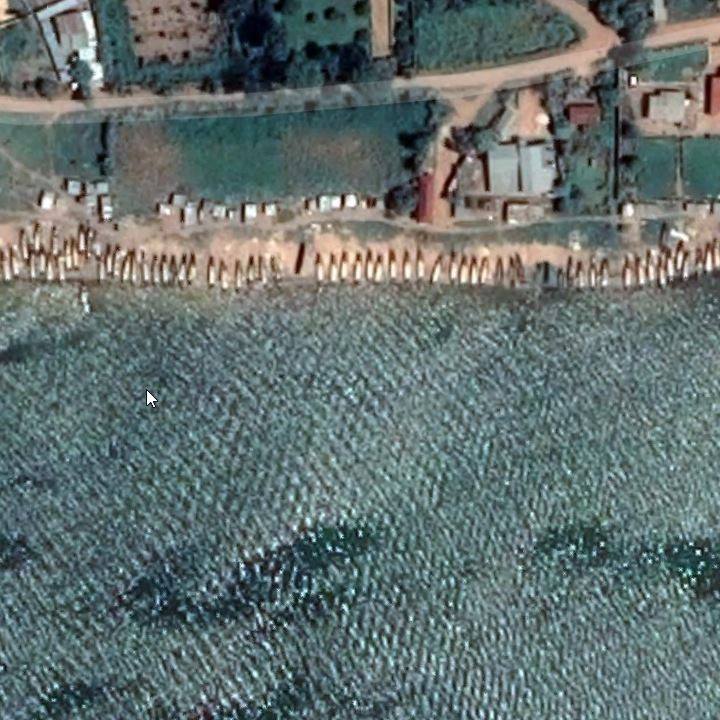boat: (127, 248, 145, 296), (290, 240, 308, 278), (336, 248, 353, 288), (37, 246, 53, 287), (166, 254, 182, 293), (8, 240, 22, 283), (445, 250, 462, 283), (184, 252, 197, 294), (491, 255, 507, 289), (504, 255, 519, 291), (111, 242, 123, 287), (1, 242, 13, 287), (654, 256, 668, 294), (313, 251, 328, 286), (55, 253, 69, 290), (672, 240, 687, 274), (139, 252, 152, 291), (413, 245, 427, 281), (18, 227, 31, 265), (643, 255, 657, 290), (31, 218, 43, 258), (85, 222, 96, 265), (175, 255, 188, 291), (664, 251, 676, 289), (61, 237, 73, 275), (26, 248, 38, 286), (120, 252, 133, 287), (353, 246, 364, 287), (513, 251, 528, 281), (256, 255, 270, 287), (159, 253, 171, 290), (150, 254, 162, 291), (431, 252, 444, 286), (70, 240, 83, 274), (365, 246, 377, 282), (621, 257, 634, 290), (102, 241, 113, 280), (43, 254, 56, 287), (219, 257, 230, 295), (400, 249, 413, 281), (205, 255, 218, 287), (327, 248, 337, 289), (599, 259, 611, 293), (458, 254, 470, 288), (95, 254, 106, 291), (634, 257, 646, 290), (387, 247, 399, 280), (564, 252, 574, 290), (573, 259, 585, 290), (374, 254, 386, 285), (48, 225, 60, 256), (233, 258, 243, 295), (711, 237, 720, 278), (587, 261, 598, 294), (76, 221, 87, 254), (468, 255, 479, 287), (693, 246, 703, 280), (479, 257, 490, 287), (681, 257, 691, 288), (555, 267, 566, 295), (704, 246, 714, 276), (271, 255, 283, 280), (248, 252, 255, 288)
